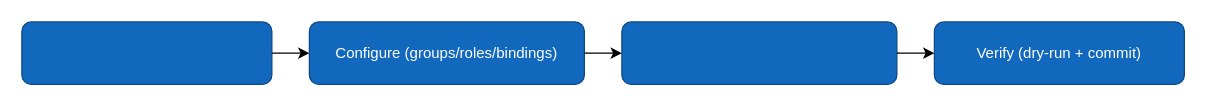
Image size: 1206x106. Some labels were removed from this diagram. Each missing label, with the box of its shape:
Authenticate (MFA + step-up): (21, 21, 272, 84)
Govern (markings/purposes/sim): (621, 21, 897, 84)
